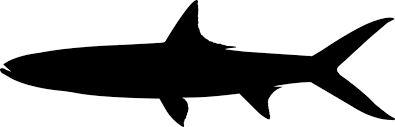Tenpounder: (3, 4, 395, 127)
